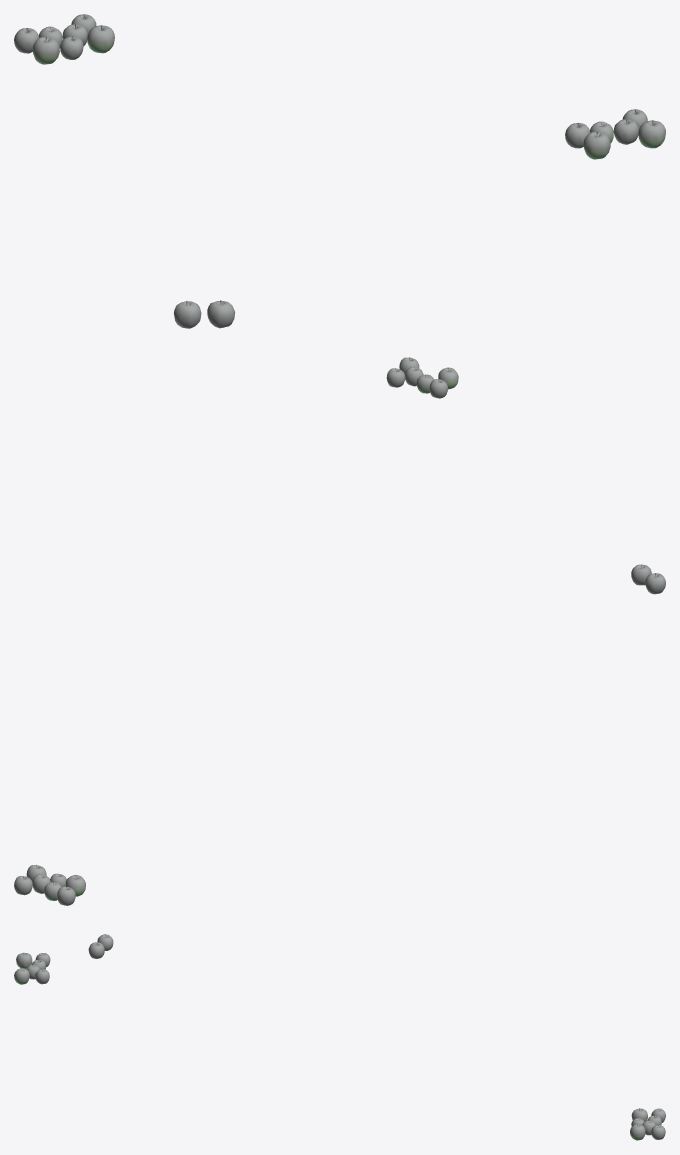
3 views of the same model, one above another, from view 1: azimuth 30°, elevation 25°; view 2: azimuth 150°, elevation 25°; view 3: azimuth 270°, elevation 25° (orthographic). The views are drawn at different scales.
Visible parts, largest first — view 1: G:\FFXIV-MapTools\exports\y6f3\bg\ex5\02_ykt_y6\fld\y6f3\bgp; view 2: G:\FFXIV-MapTools\exports\y6f3\bg\ex5\02_ykt_y6\fld\y6f3\bgp; view 3: G:\FFXIV-MapTools\exports\y6f3\bg\ex5\02_ykt_y6\fld\y6f3\bgp.
Part boxes in pixels (<box>): G:\FFXIV-MapTools\exports\y6f3\bg\ex5\02_ykt_y6\fld\y6f3\bgp: <box>14,14,665,328</box>; G:\FFXIV-MapTools\exports\y6f3\bg\ex5\02_ykt_y6\fld\y6f3\bgp: <box>14,357,665,905</box>; G:\FFXIV-MapTools\exports\y6f3\bg\ex5\02_ykt_y6\fld\y6f3\bgp: <box>14,934,665,1140</box>.
Bounding box in the file's own units: 5.55 × 3.88 × 12.68.
